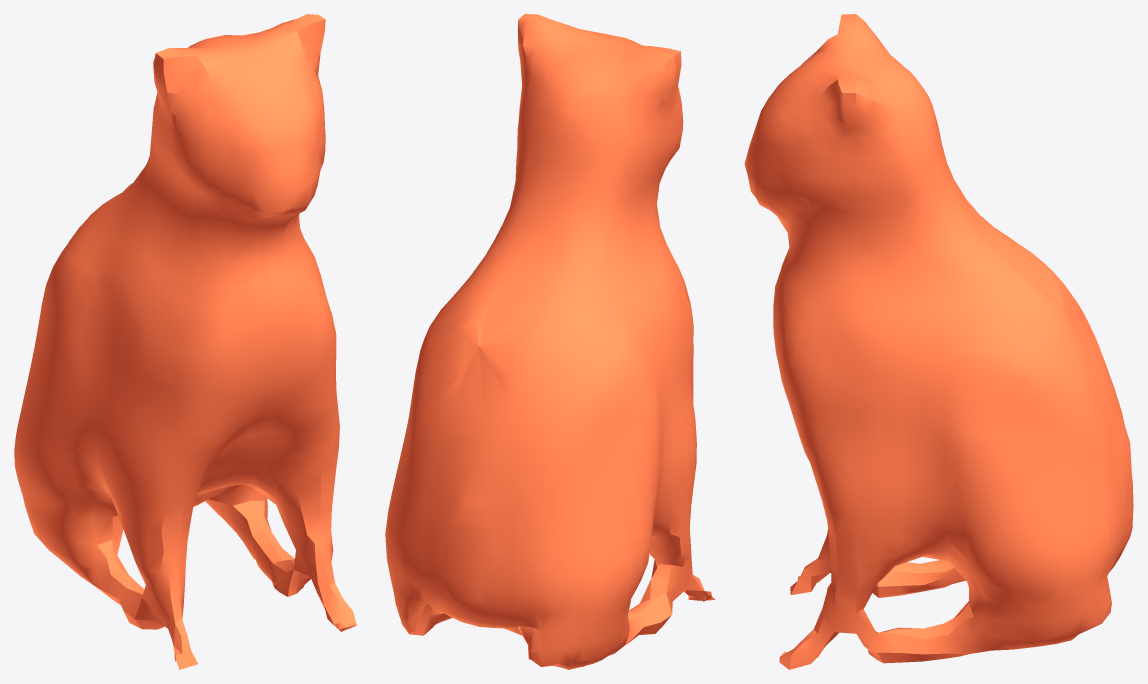
Rendered from CATmidp.glb.
3 renders of one model, left to right at view 1: azimuth 30°, elevation 25°; view 2: azimuth 150°, elevation 25°; view 3: azimuth 270°, elevation 25°, orthographic. The views are drawn at different scales.
Parts seen in each view (by area): view 1: Sphere; view 2: Sphere; view 3: Sphere.
Boxes of the visible parts, x1,y1,x2,y2 form: Sphere: (14,14,356,669); Sphere: (385,14,715,669); Sphere: (744,14,1133,669).
Bounding box in the file's own units: 1.43 × 3.19 × 1.94.
